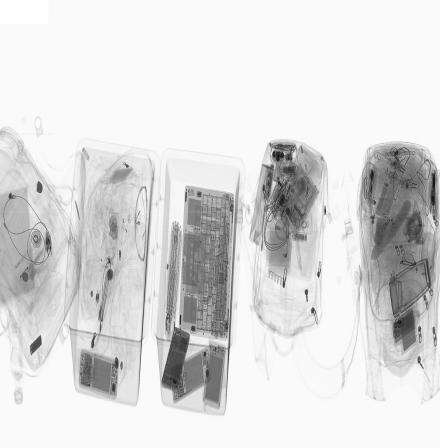Powerbank: (202, 341, 228, 413)
